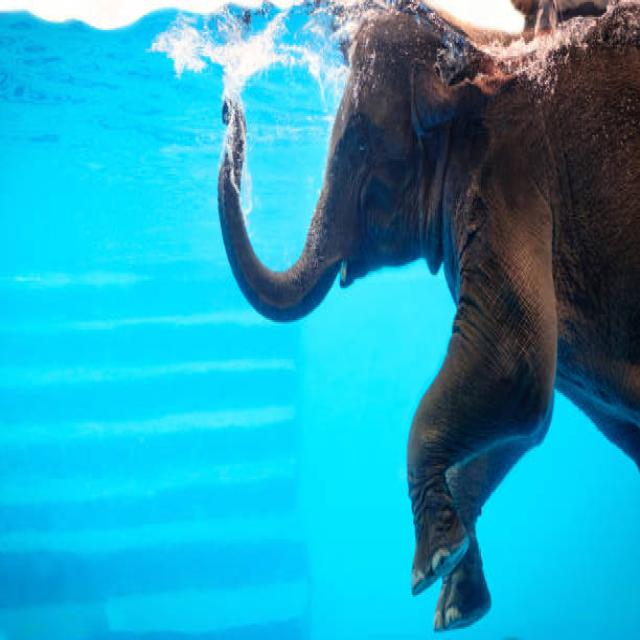Elephant: (219, 0, 640, 629)
